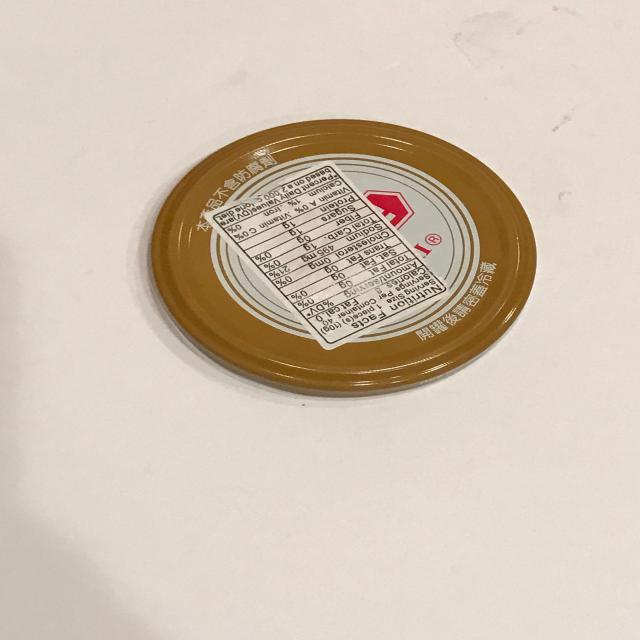metal: (147, 117, 538, 399)
